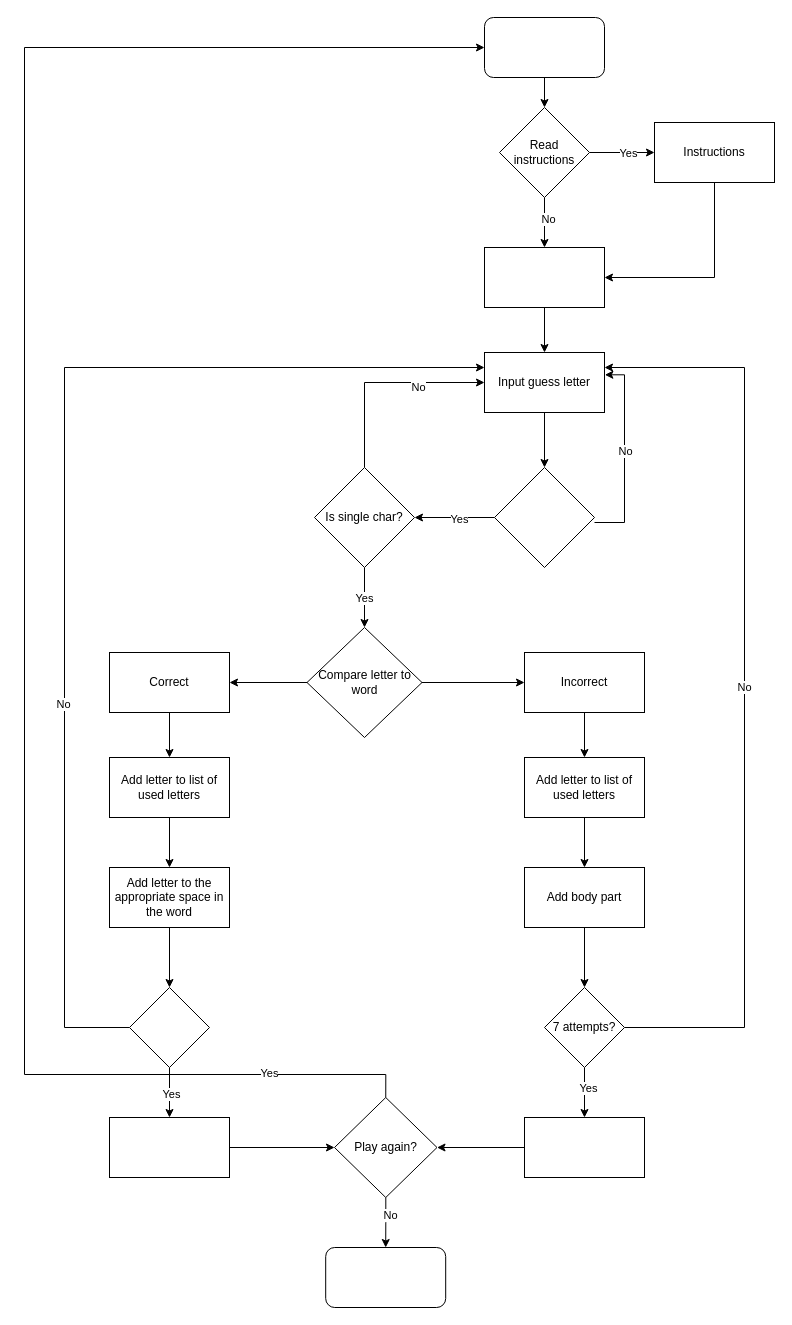
This 792x1325 diagram has some shape labels left out. Here are the shapes that lost their labels. From the top down, the box of each, then its label:
(484, 16, 604, 78): Start Screen
(484, 246, 604, 308): Start game + select random word
(494, 466, 594, 568): Is alphabetic char?
(128, 986, 210, 1068): Word complete?
(108, 1116, 230, 1178): Player wins
(524, 1116, 644, 1178): Player loses
(325, 1246, 446, 1308): End of game
